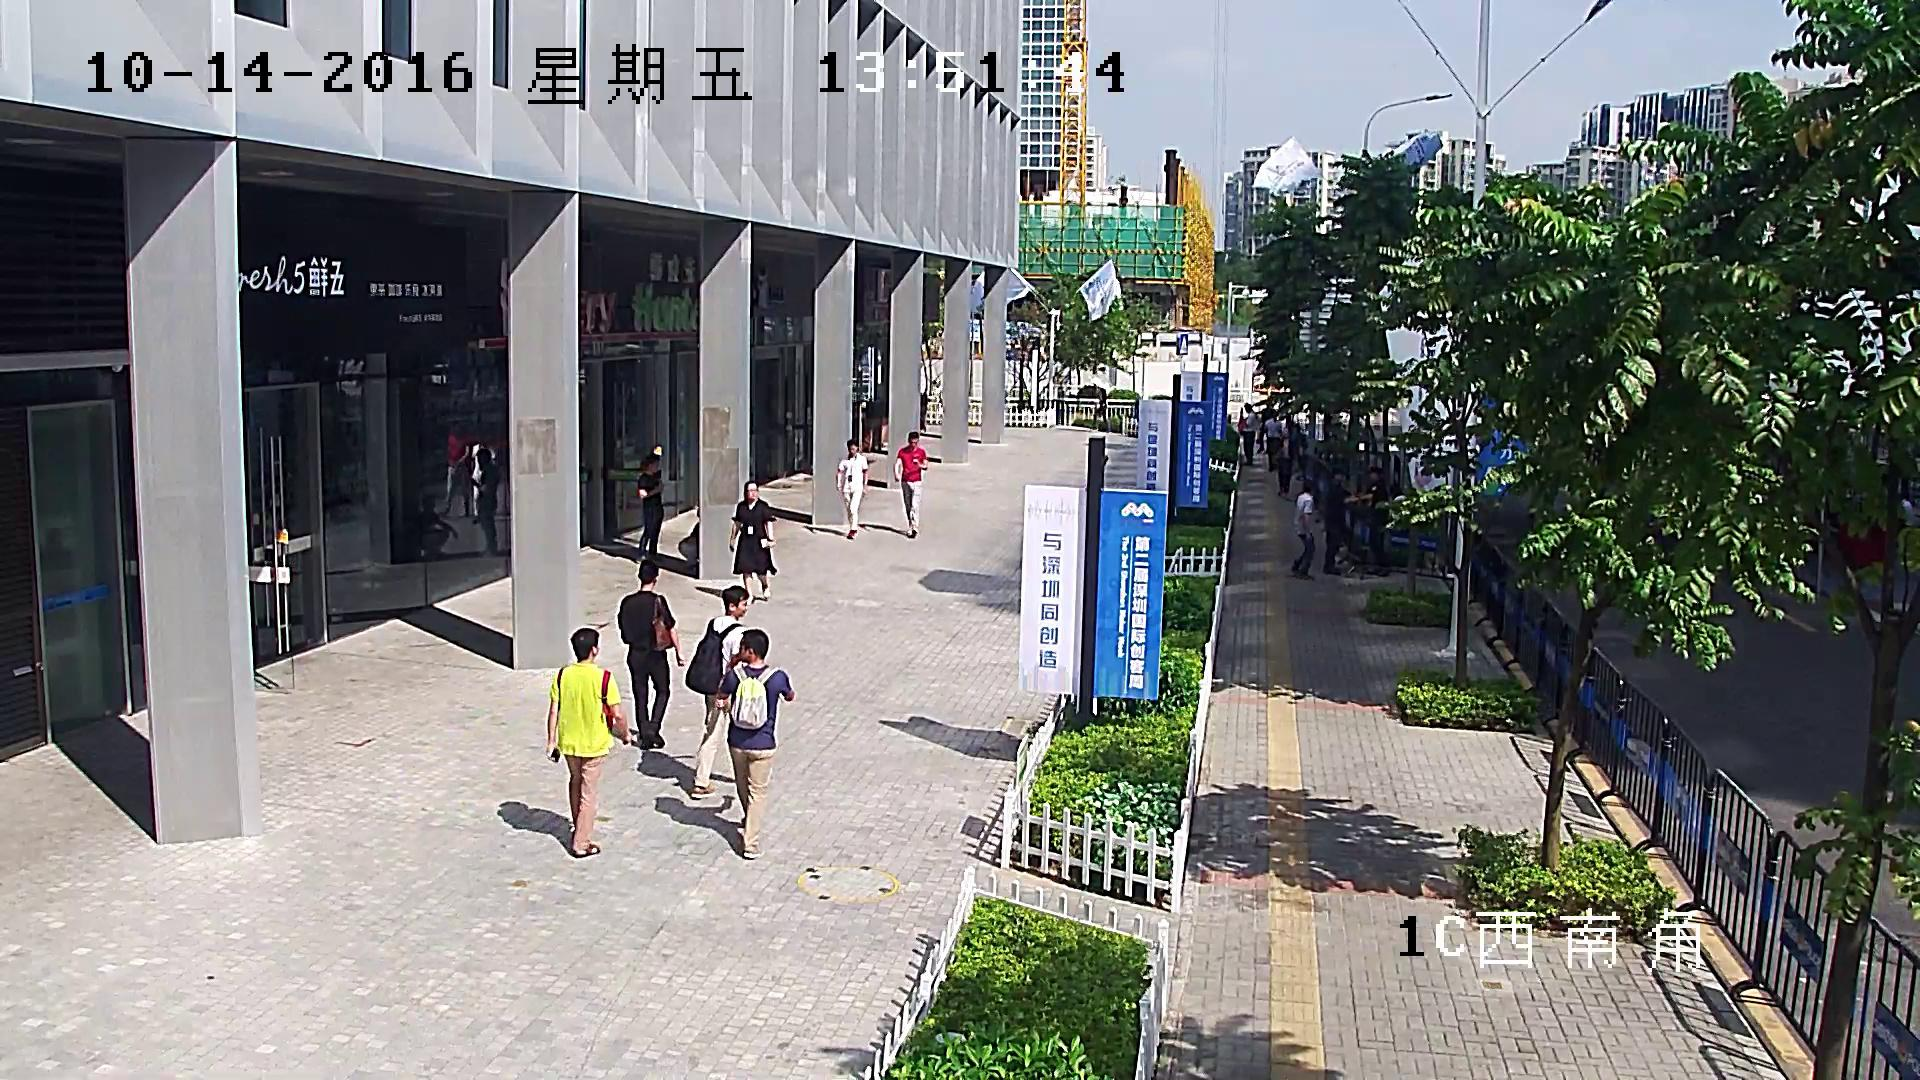person: (545, 628, 631, 858), (719, 628, 793, 858), (685, 587, 749, 799), (618, 559, 684, 750), (728, 480, 776, 604), (1323, 468, 1361, 577), (1358, 465, 1393, 576), (894, 432, 928, 538), (467, 448, 499, 557), (836, 438, 868, 540), (441, 423, 471, 519), (638, 455, 665, 562), (1289, 479, 1315, 580), (417, 494, 458, 558), (471, 436, 495, 523), (678, 505, 699, 568), (1274, 437, 1292, 496), (1256, 404, 1276, 454), (1264, 411, 1282, 472), (1240, 402, 1256, 466), (1288, 423, 1307, 471)
